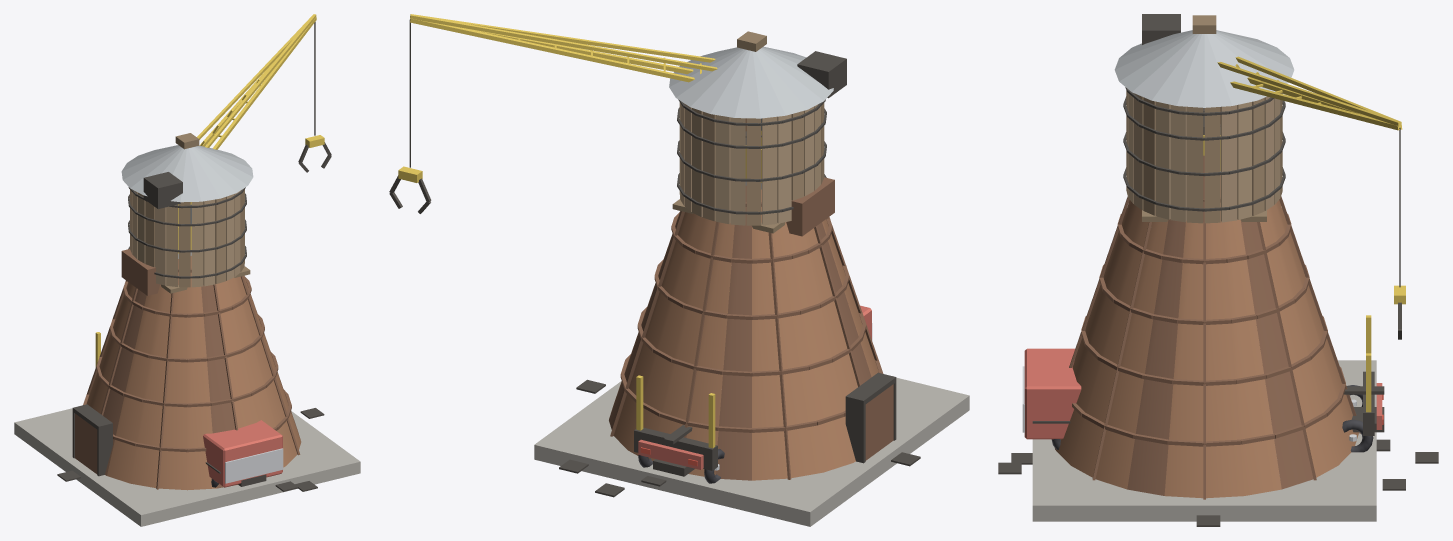
File: mill_kit.glb
3 renders of one model, left to right at view 1: azimuth 30°, elevation 25°; view 2: azimuth 150°, elevation 25°; view 3: azimuth 270°, elevation 25°, orthographic. The views are drawn at different scales.
Parts seen in each view (by area): view 1: hm_burner_mesh, hm_watertower_mesh, hm_crane_mesh, hm_logtruck_mesh; view 2: hm_burner_mesh, hm_watertower_mesh, hm_crane_mesh, hm_logtruck_mesh; view 3: hm_burner_mesh, hm_watertower_mesh, hm_logtruck_mesh, hm_crane_mesh.
Boxes of the visible parts, left/top/right/bottom form: hm_burner_mesh: left=14, top=249, right=360, bottom=526; hm_watertower_mesh: left=121, top=133, right=253, bottom=293; hm_crane_mesh: left=143, top=14, right=331, bottom=258; hm_logtruck_mesh: left=95, top=332, right=283, bottom=487; hm_burner_mesh: left=534, top=118, right=969, bottom=526; hm_watertower_mesh: left=669, top=31, right=833, bottom=233; hm_crane_mesh: left=389, top=14, right=846, bottom=213; hm_logtruck_mesh: left=634, top=305, right=872, bottom=483; hm_burner_mesh: left=998, top=107, right=1438, bottom=526; hm_watertower_mesh: left=1114, top=15, right=1294, bottom=223; hm_logtruck_mesh: left=1022, top=315, right=1384, bottom=452; hm_crane_mesh: left=1142, top=14, right=1405, bottom=339.
Bounding box in the file's own units: 13.77 × 12.95 × 11.27.
